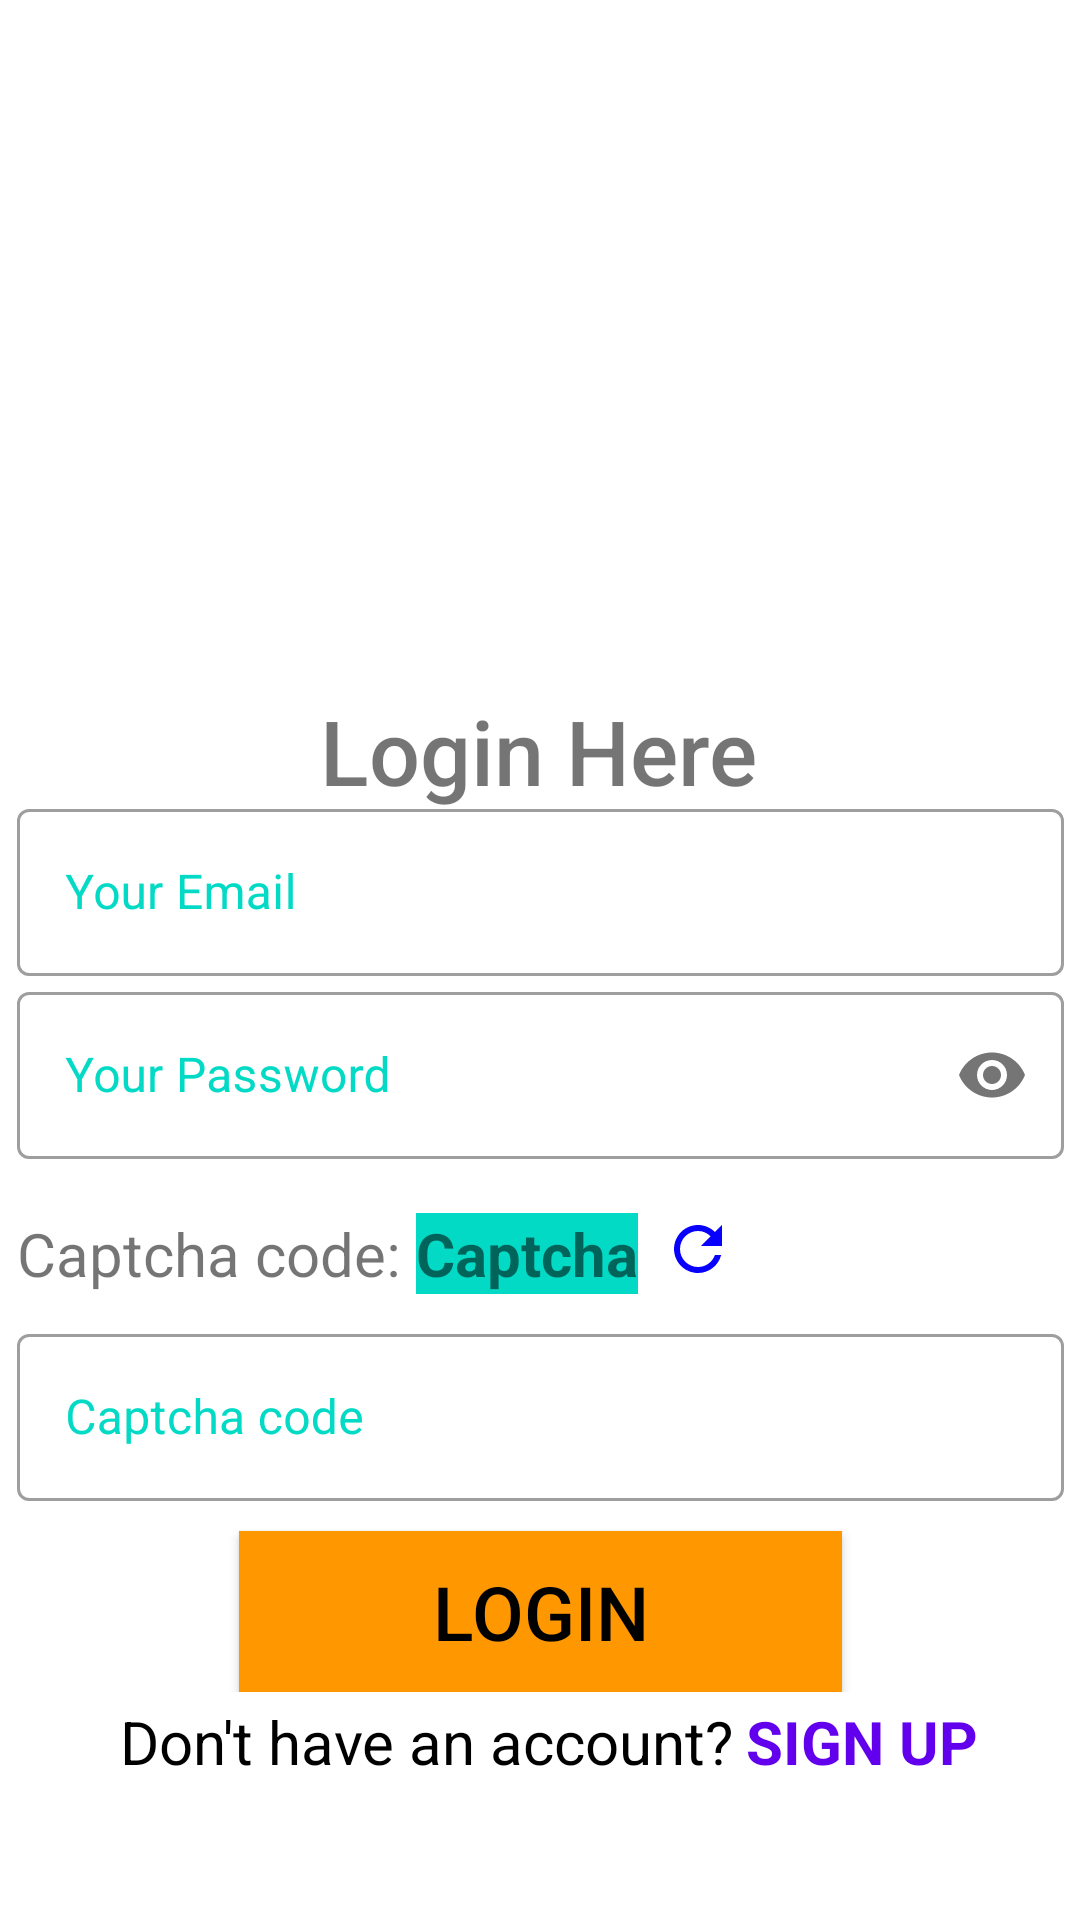

Point at icon controls on the screen. Image size 1080w x 1920h, points as [x,y].
resend: [698,1249]
